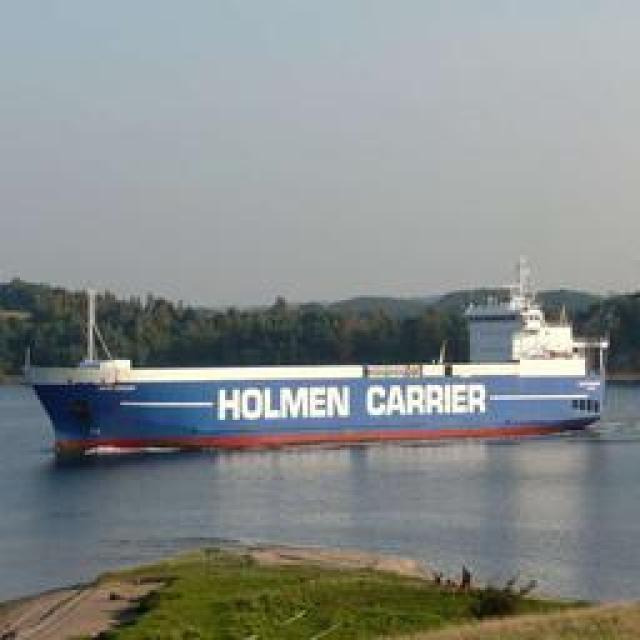ship2: (26, 254, 615, 460)
